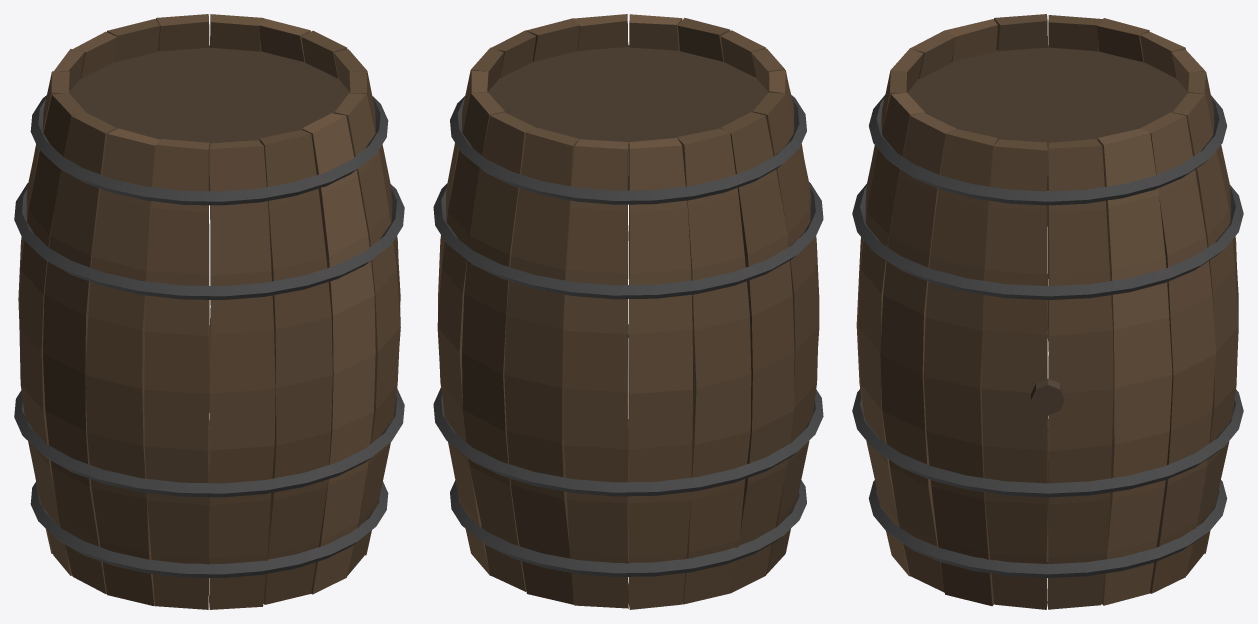
The model's file is barrel.glb.
The picture shows the model from 3 angles, left to right: view 1: azimuth 30°, elevation 25°; view 2: azimuth 150°, elevation 25°; view 3: azimuth 270°, elevation 25°; orthographic projection.
Visible parts, largest first — view 1: barrel; view 2: barrel; view 3: barrel.
Part boxes in pixels (x1,y1,x2,y2): barrel: (14, 14, 404, 609); barrel: (433, 14, 823, 609); barrel: (852, 14, 1243, 609).
Size of what is drawn, in the model's own units: 0.8347 by 1.05 by 0.8095.
